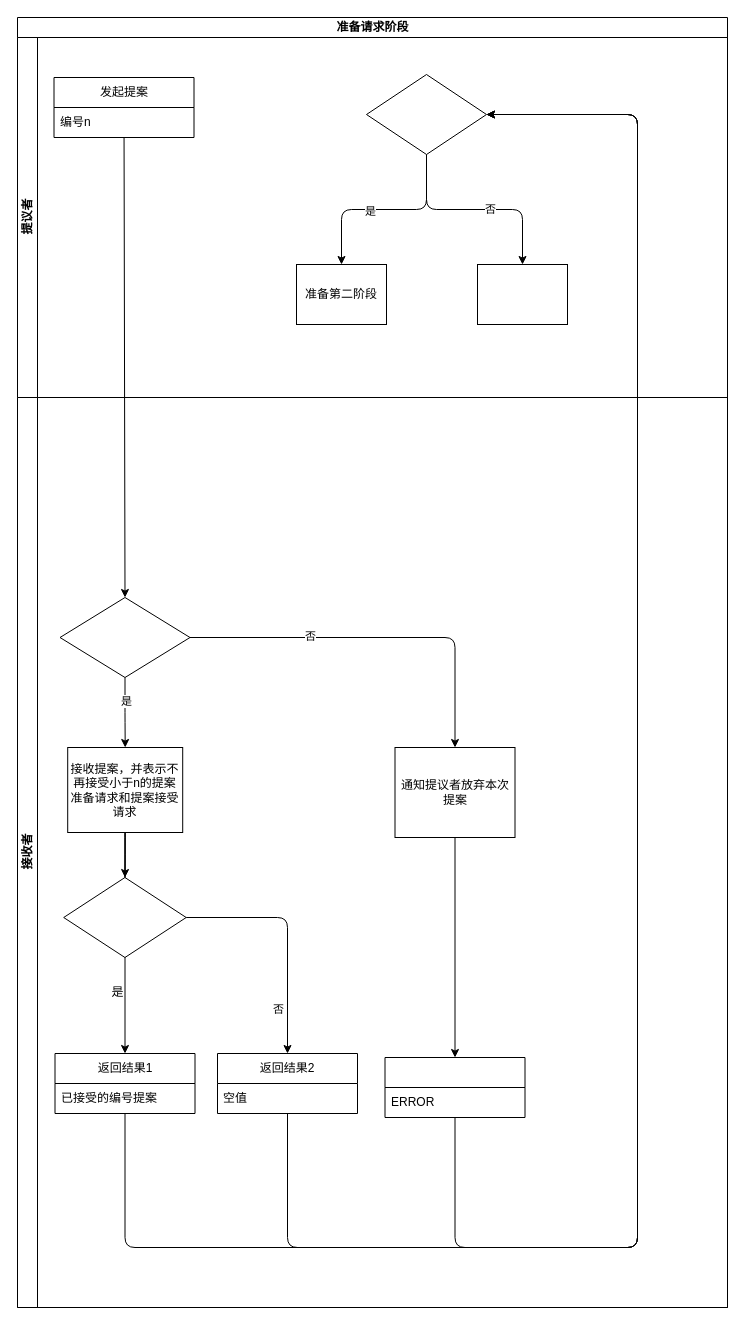
This 745x1325 diagram has some shape labels left out. The box of each missing label's shape, as (x1, y1, x2, y2) in pixels:
不返回/返回结果3: (384, 1056, 525, 1118)
如果存在已经接受的提案？: (63, 876, 186, 958)
废除提议等待重新发起: (476, 264, 568, 324)
返回结果为一致为1或者2&&回复者超过半数？: (366, 74, 486, 154)
验证编号是否是最大编号n？: (59, 596, 190, 678)
